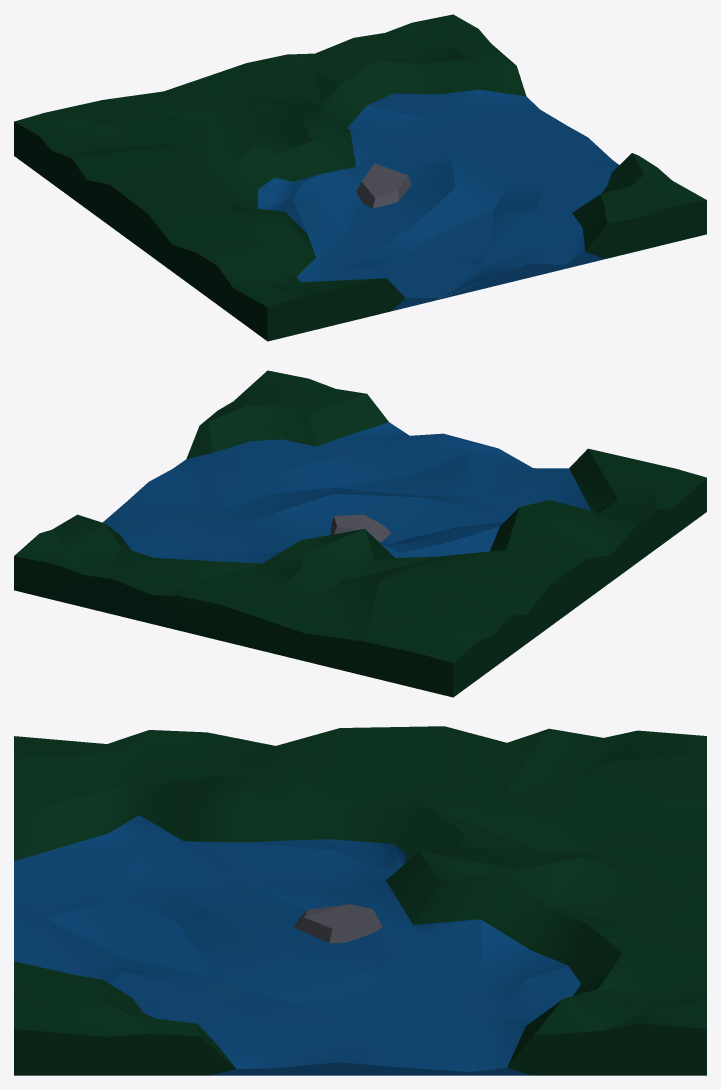
The model's file is Water_Turn_LU.fbx.
3 views of the same model, one above another, from view 1: azimuth 30°, elevation 25°; view 2: azimuth 150°, elevation 25°; view 3: azimuth 270°, elevation 25° (orthographic). The views are drawn at different scales.
Visible parts, largest first — view 1: Water_Turn_LU; view 2: Water_Turn_LU; view 3: Water_Turn_LU.
Part boxes in pixels (x1,y1,x2,y2): Water_Turn_LU: [14, 14, 706, 341]; Water_Turn_LU: [14, 370, 706, 697]; Water_Turn_LU: [14, 726, 706, 1075].
Bounding box in the file's own units: 147 × 14.69 × 147.
